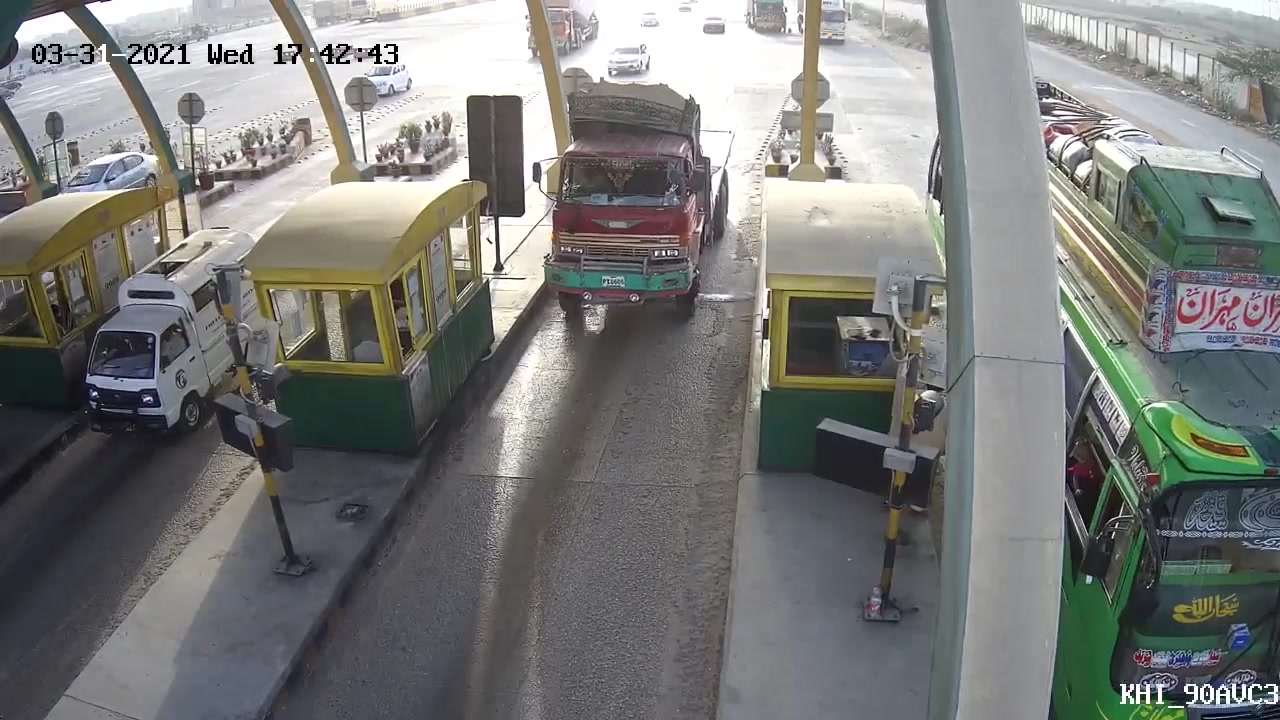F5: (537, 88, 735, 339)
